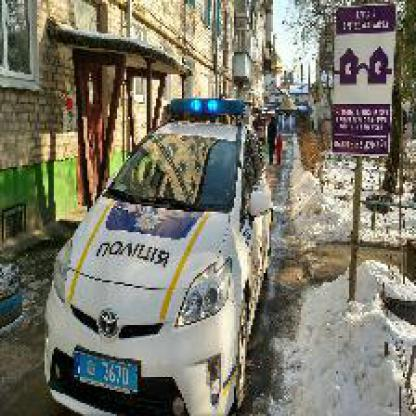emergency: (37, 91, 277, 414)
